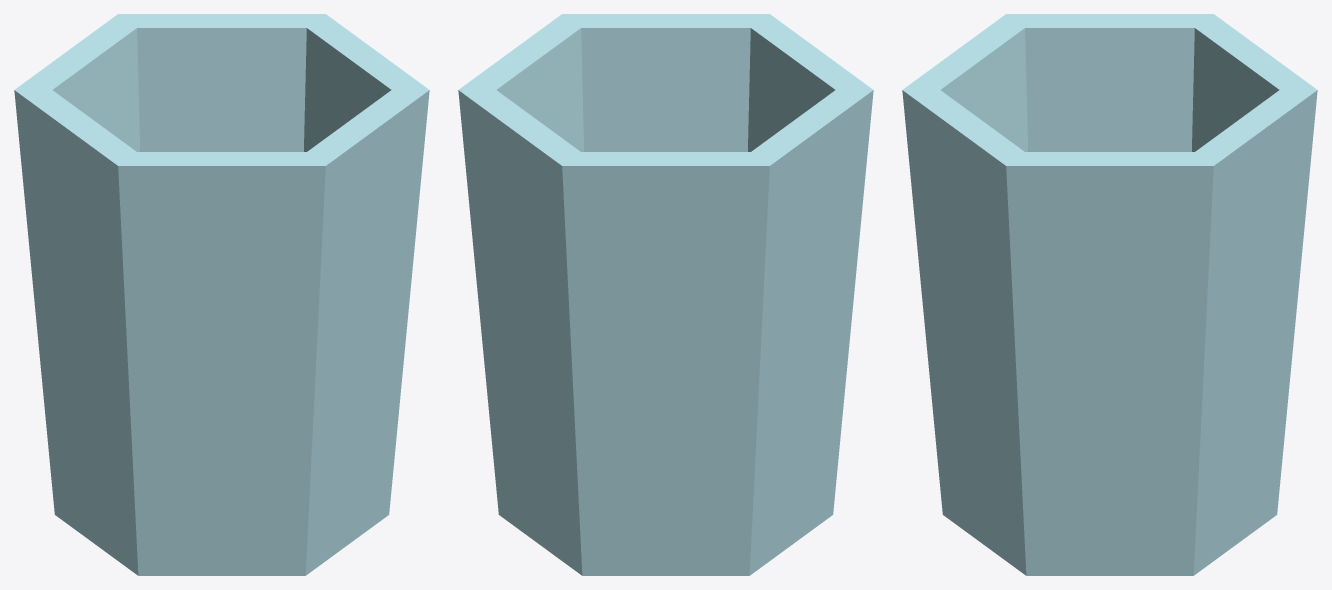
Rendered from Glass.fbx.
3 views of the same model, side by side, from view 1: azimuth 30°, elevation 25°; view 2: azimuth 150°, elevation 25°; view 3: azimuth 270°, elevation 25° (orthographic).
Parts seen in each view (by area): view 1: Cylinder; view 2: Cylinder; view 3: Cylinder.
Part boxes in pixels (<box>): Cylinder: <box>14,14,429,575</box>; Cylinder: <box>458,14,873,575</box>; Cylinder: <box>902,14,1317,575</box>.
Size of the model in its own units: 32.62 by 42.5 by 37.66.
